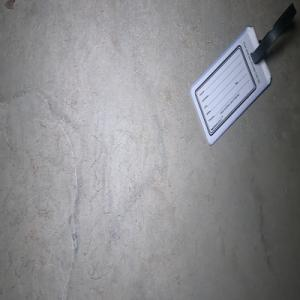LuggageTag: (188, 1, 297, 148)
